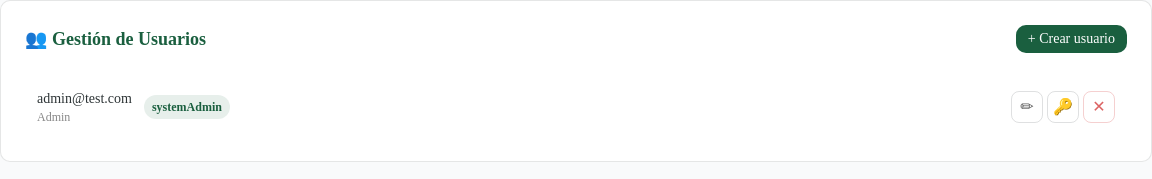
Test case: UsuariosCard — autoComplete en formularios (C-41, C-44) › C-44: REGRESIÓN — inline edit: inputs email y nombre tienen autoComplete="off"
The width and height of the screenshot is (1152, 179).
Check: the text "admin@test.com" is shown, box [37,89,132,109]
Step 1. Click the button titled "Editar rol" → (1027, 107), box [1011,91,1043,123]
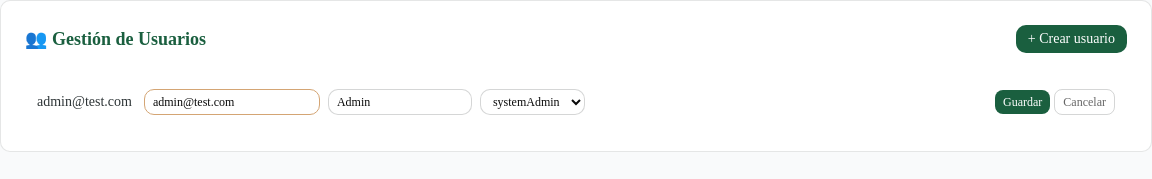
Check: the 1st field with placeholder "Email" is shown, box [144,89,320,115]
